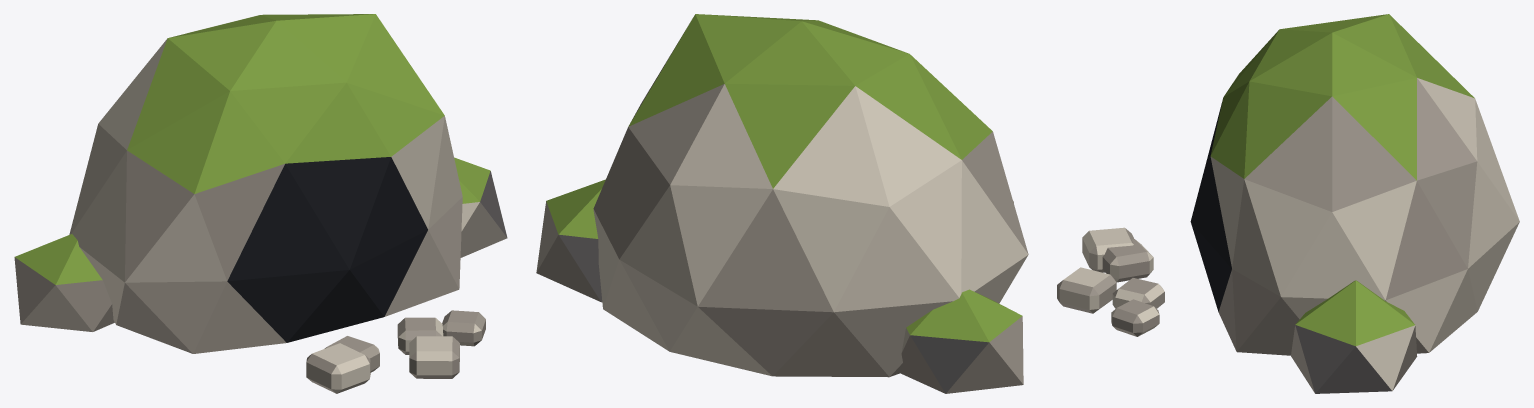
File: Boulder_SlimeRock.fbx
3 views of the same model, side by side, from view 1: azimuth 30°, elevation 25°; view 2: azimuth 150°, elevation 25°; view 3: azimuth 270°, elevation 25° (orthographic). The views are drawn at different scales.
Visible parts, largest first — view 1: Boulder_SlimeRock; view 2: Boulder_SlimeRock; view 3: Boulder_SlimeRock.
Part boxes in pixels (x1=…): Boulder_SlimeRock: x1=14, y1=14, x2=507, y2=393; Boulder_SlimeRock: x1=536, y1=14, x2=1028, y2=393; Boulder_SlimeRock: x1=1057, y1=14, x2=1519, y2=393.
Bounding box in the file's own units: 4.33 × 2.4 × 3.92.
